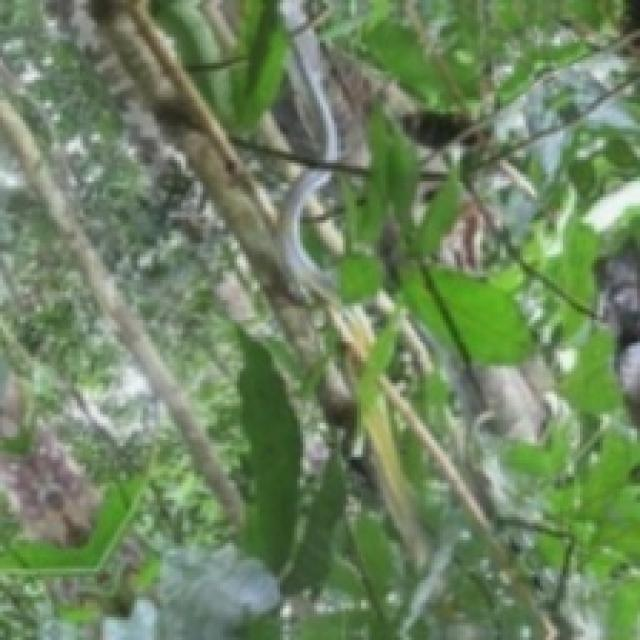red-tailed green ratsnake: (284, 170, 376, 369), (358, 376, 429, 564), (281, 0, 340, 162)
